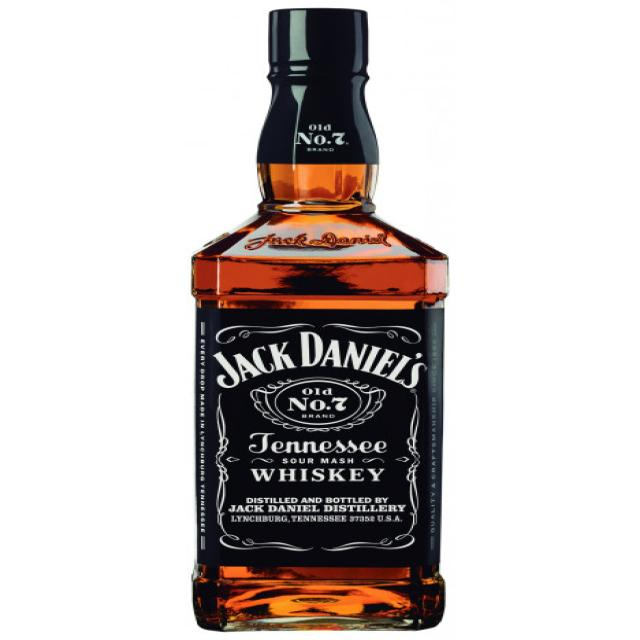Botella: (174, 0, 470, 634)
